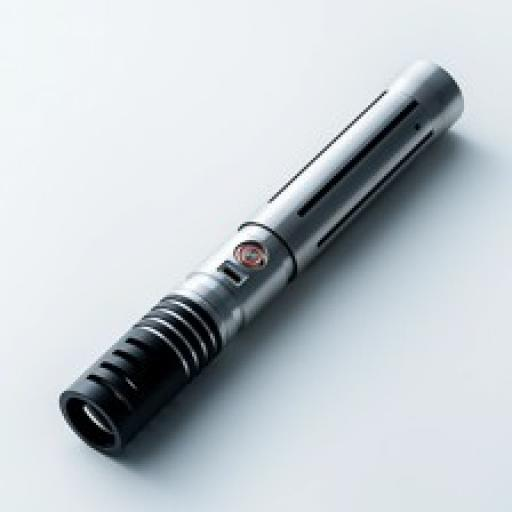lightsaber: (61, 59, 468, 452)
